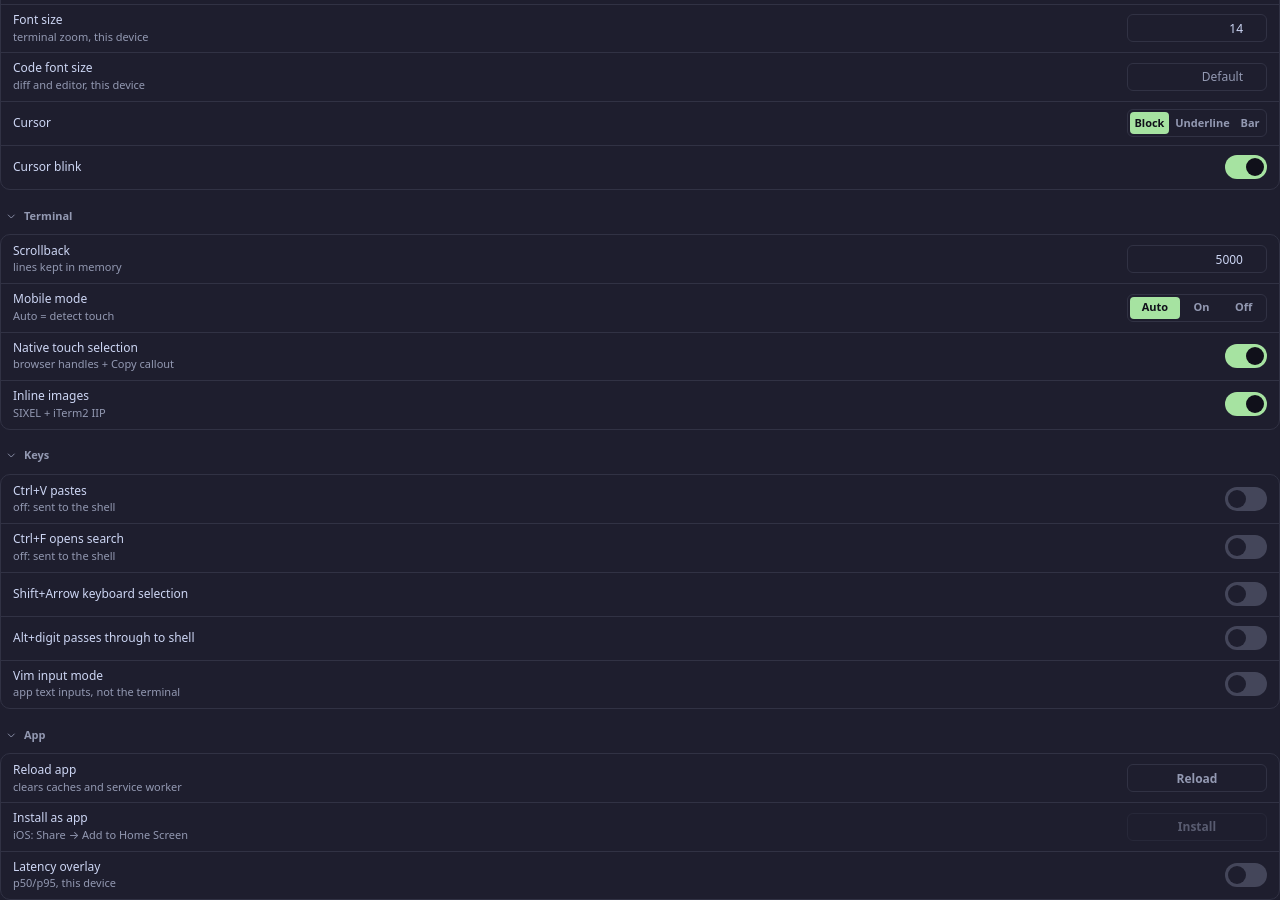
Test: Reload app row › reloads unconditionally when the host supplies nothing
Click the button with test id "reload-app" at (1197,778), box [1127,764,1267,792]
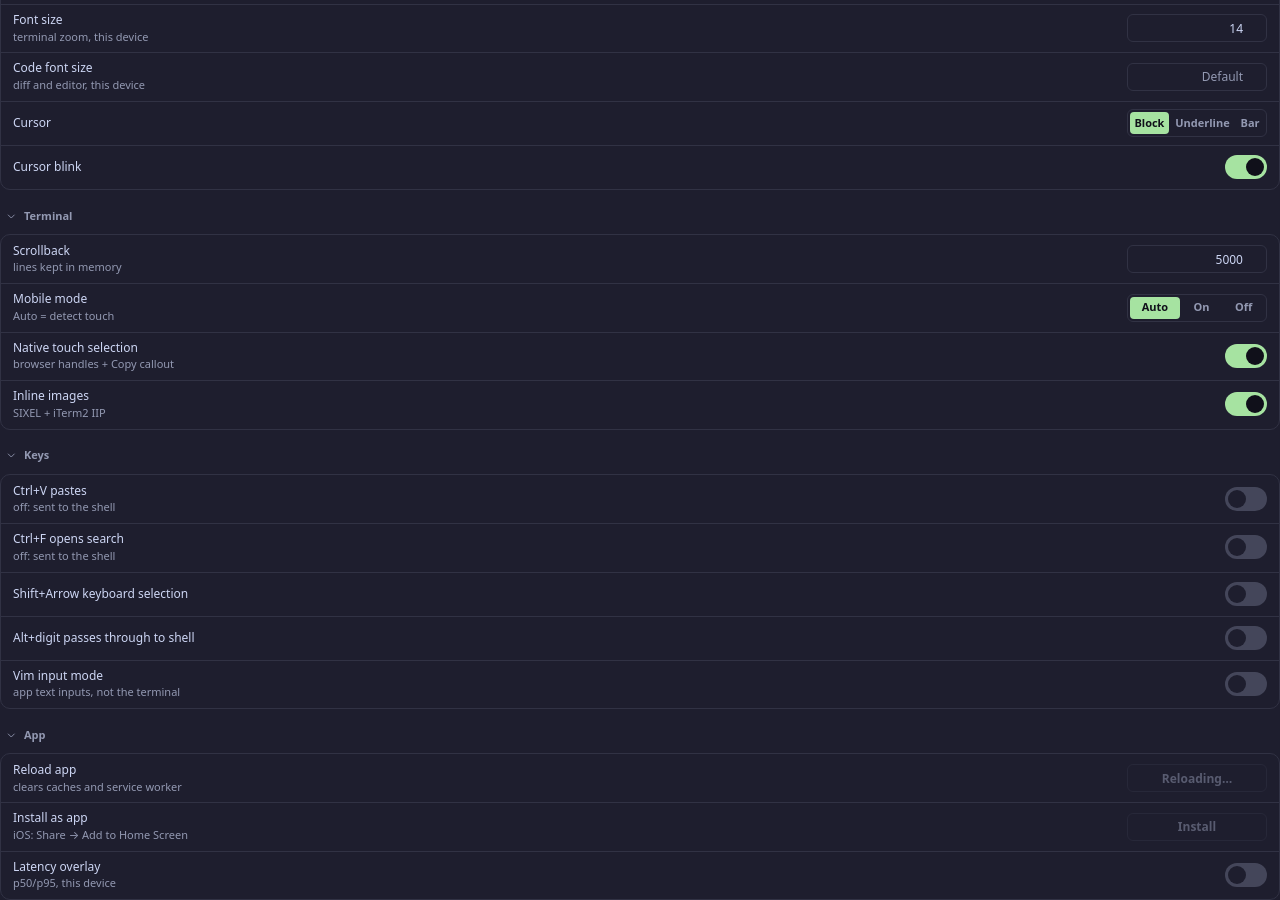
Now the button with test id "reload-app" is disabled, box [1127,764,1267,792]
Now the button with test id "reload-app" reads "Reloading…", box [1127,764,1267,792]
